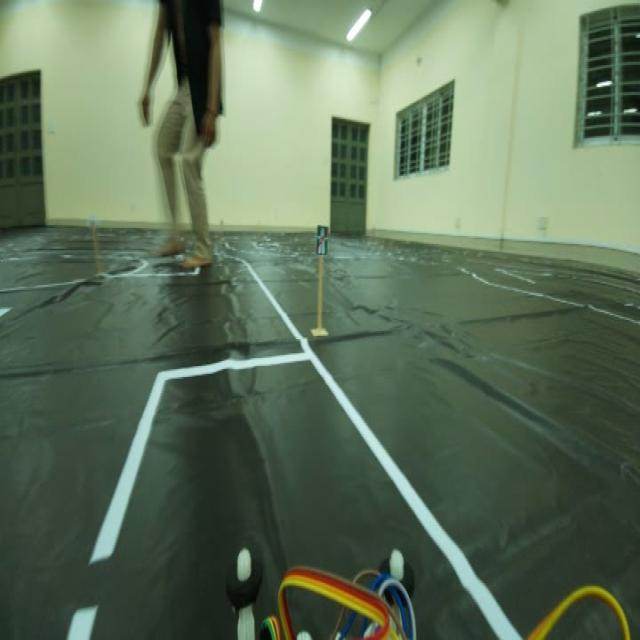highway_exit: (310, 225, 336, 263)
